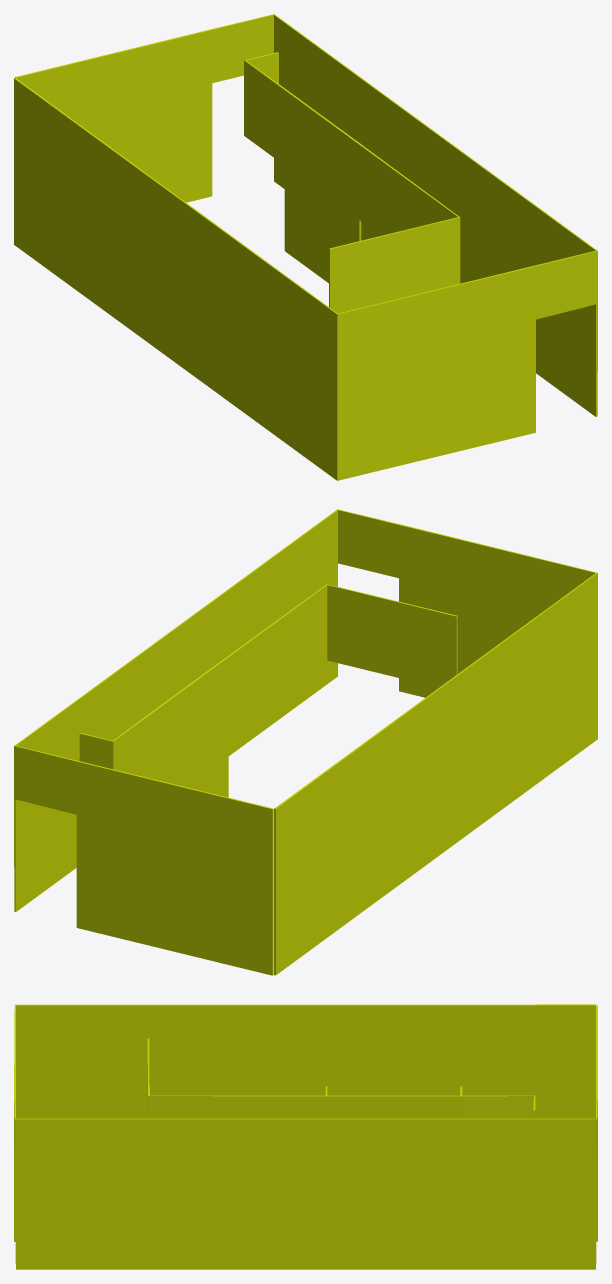
Rendered from kominka_machiya_collision.fbx.
3 renders of one model, top to bottom at view 1: azimuth 30°, elevation 25°; view 2: azimuth 150°, elevation 25°; view 3: azimuth 270°, elevation 25°, orthographic. The views are drawn at different scales.
Visible parts, largest first — view 1: Collision; view 2: Collision; view 3: Collision.
Part boxes in pixels (x1,y1,x2,y2): Collision: (14,14,597,480); Collision: (14,509,597,975); Collision: (14,1004,597,1269).
Bounding box in the file's own units: 7.25 × 4.41 × 15.55.
